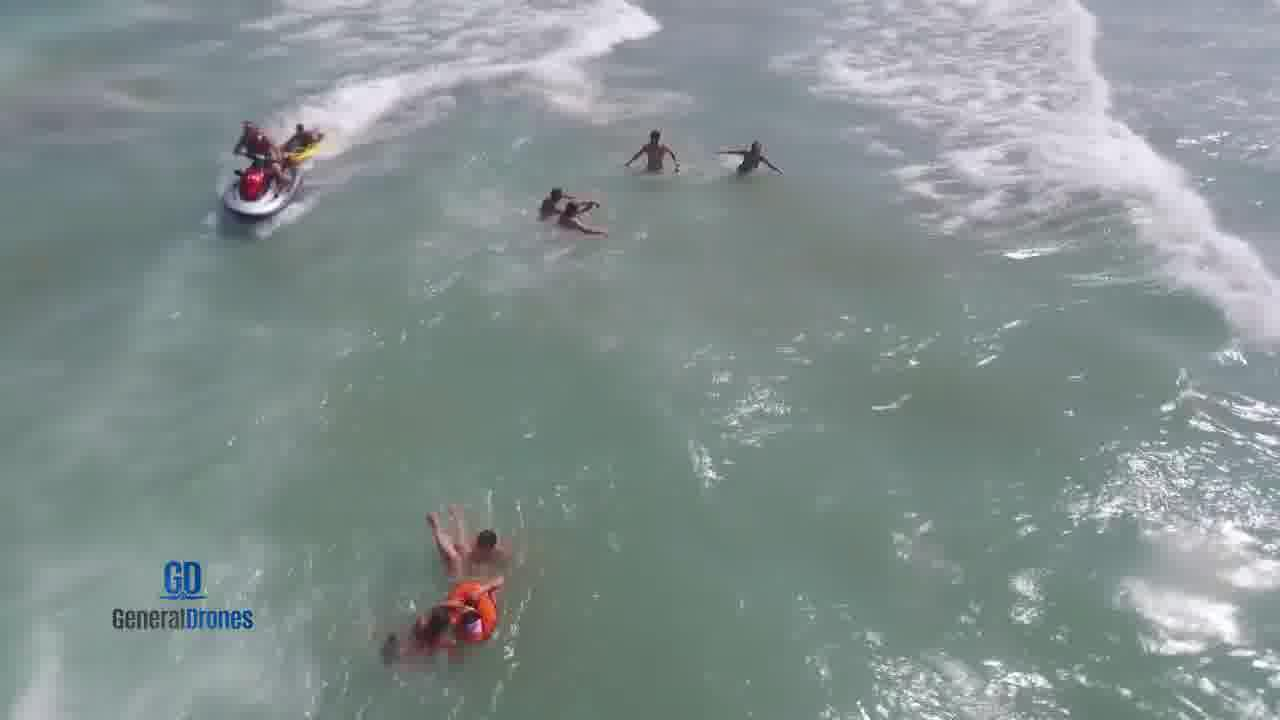swimmer: (423, 502, 521, 637), (455, 502, 528, 566), (396, 598, 473, 653), (554, 195, 623, 242), (521, 172, 597, 213)
